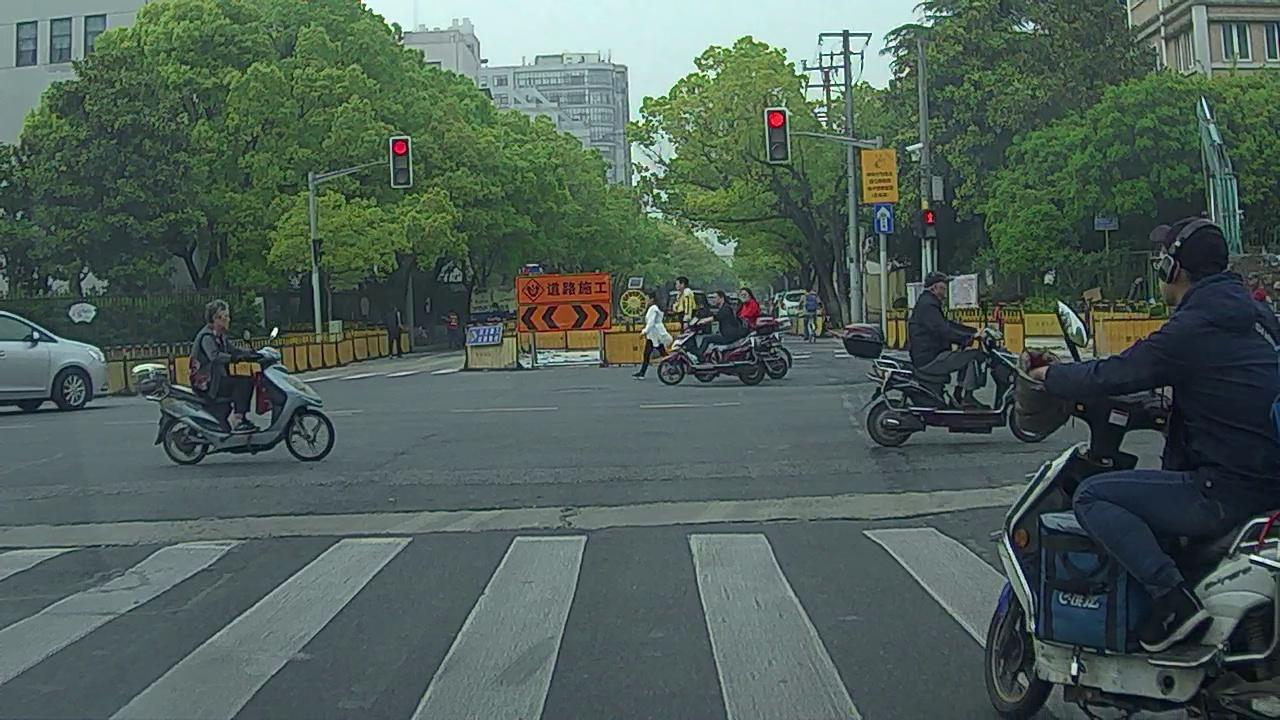traffic_light: (768, 110, 789, 162), (391, 138, 411, 184)
